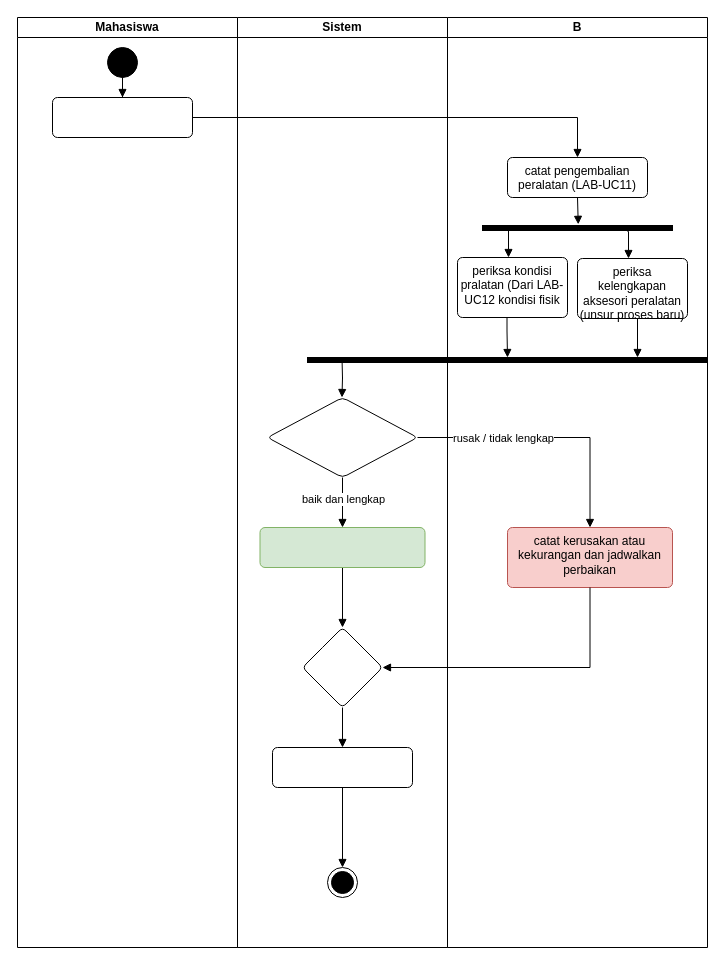
The diagram is 725 pixels wide and 965 high, and some of its shapes have lost their labels. Here are the shapes that lost their labels. From the top down, the centre of each, then its label:
the point at 122,117: menyerahkan peralatan yang dipinjam
the point at 342,437: kondisi peralatan baik dan lengkap
the point at 342,547: perbarui status peralatan menjadi tersedia
the point at 342,767: menutup transasksi peminjaman
